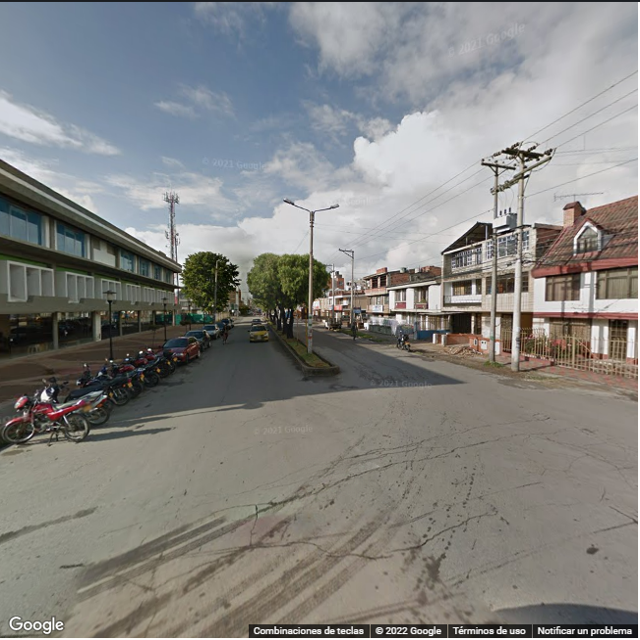D00: (148, 533, 169, 581), (138, 593, 161, 635), (270, 521, 295, 545)
D10: (273, 442, 482, 507), (388, 510, 496, 553), (156, 547, 250, 589), (179, 501, 263, 527)
